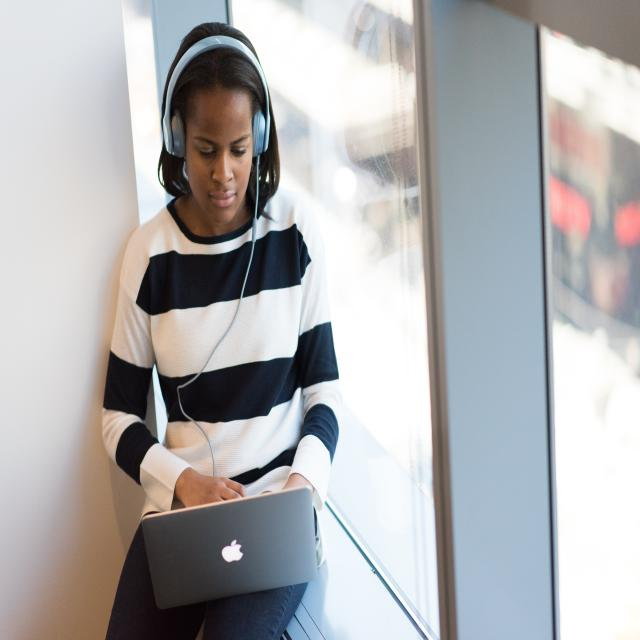Headphone: (161, 35, 272, 160)
